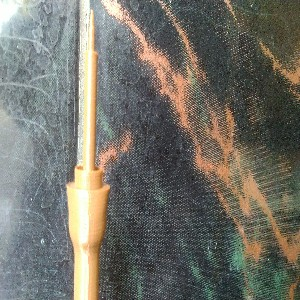solder: (66, 8, 111, 300)
